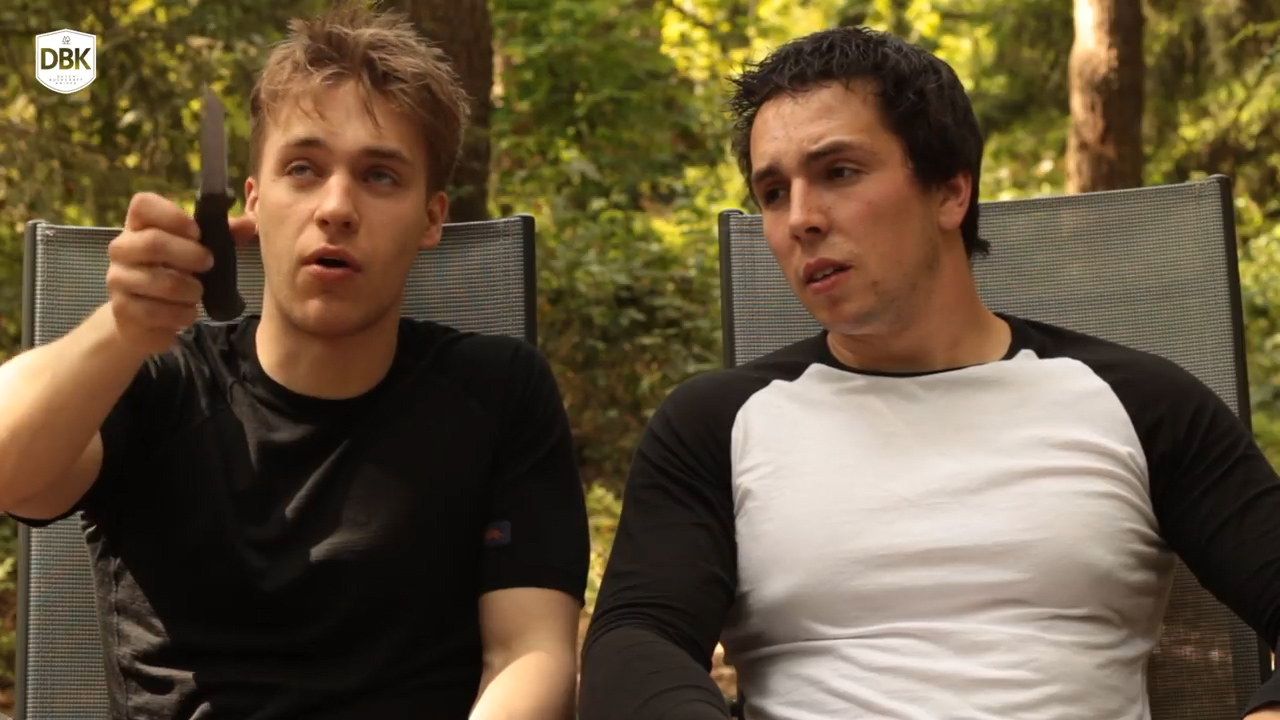knife: (120, 68, 248, 288)
